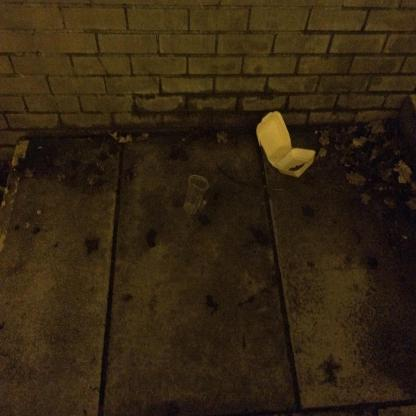kopuk: (256, 110, 316, 178)
plastik: (183, 175, 209, 215)
